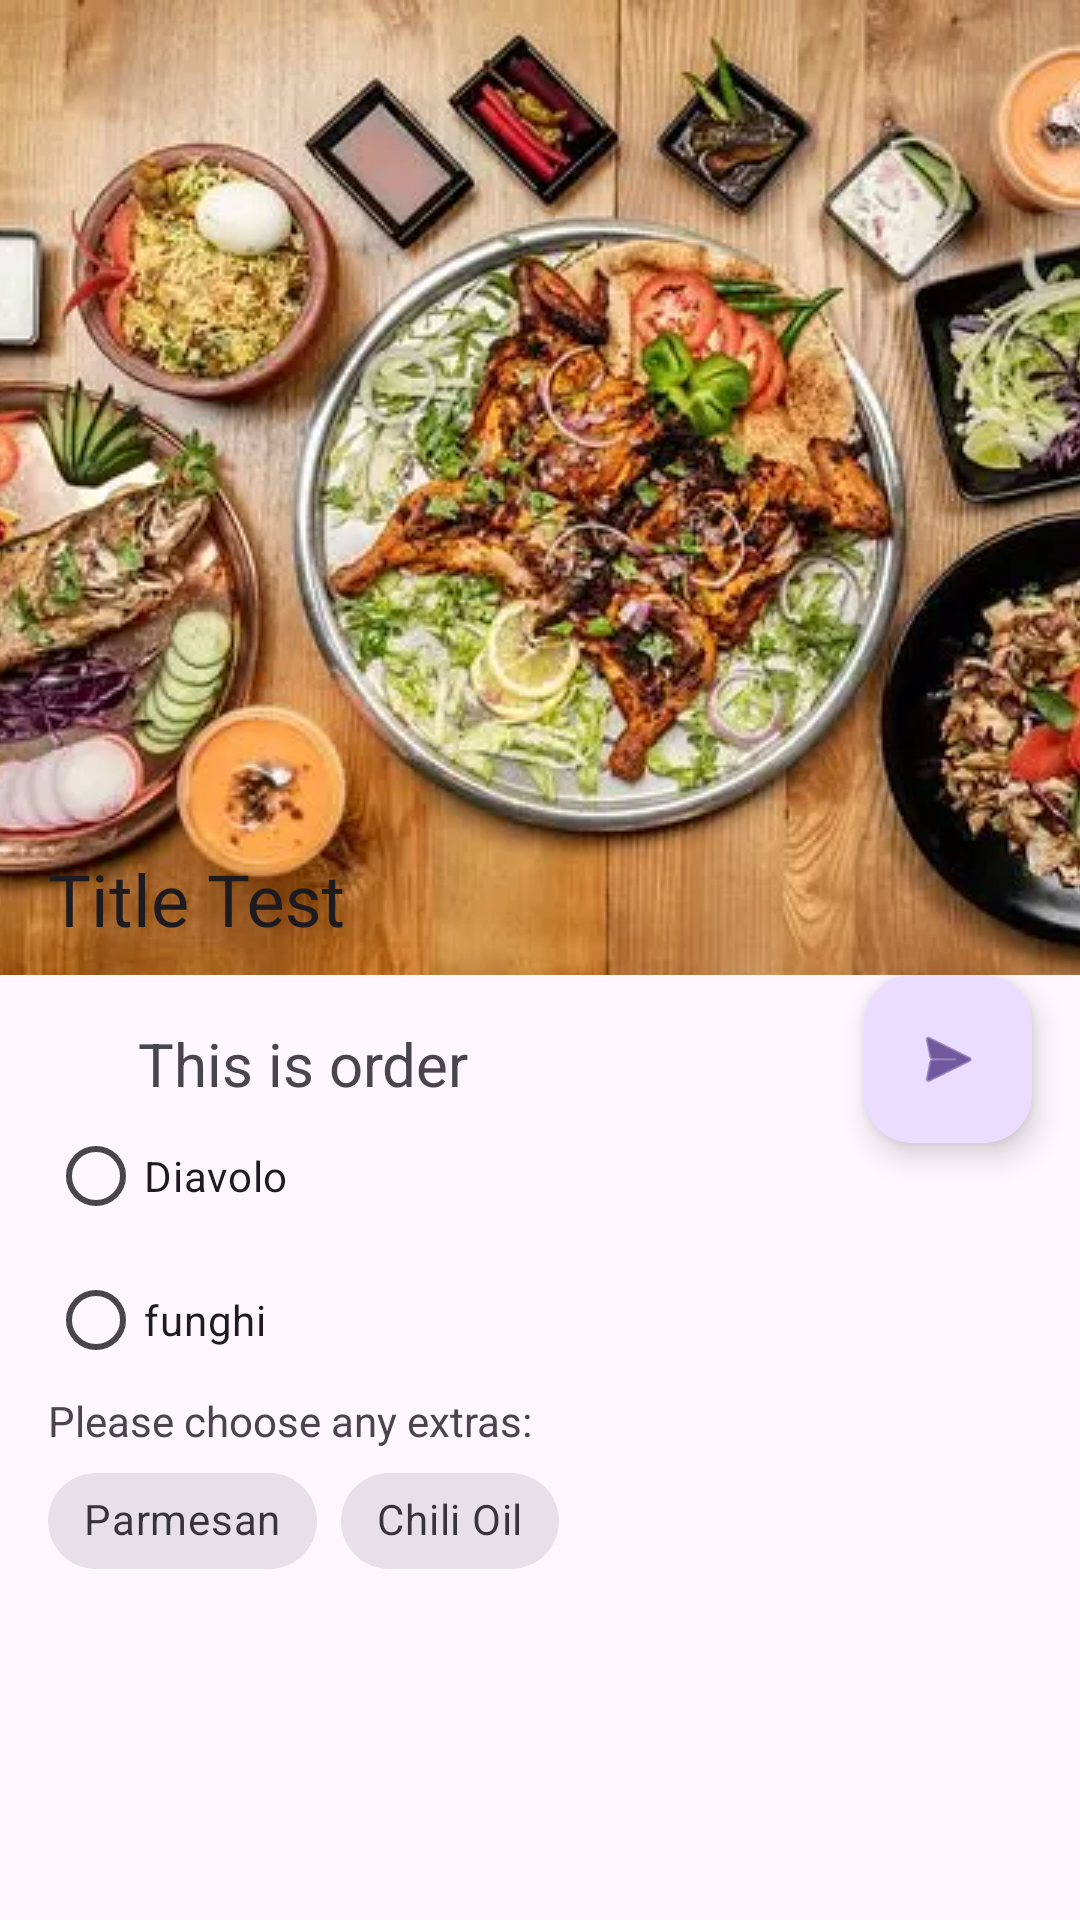

Named icons in this screenshot (1080*1920) and their centers, (x=x, y=y):
send: (x=948, y=1059)
